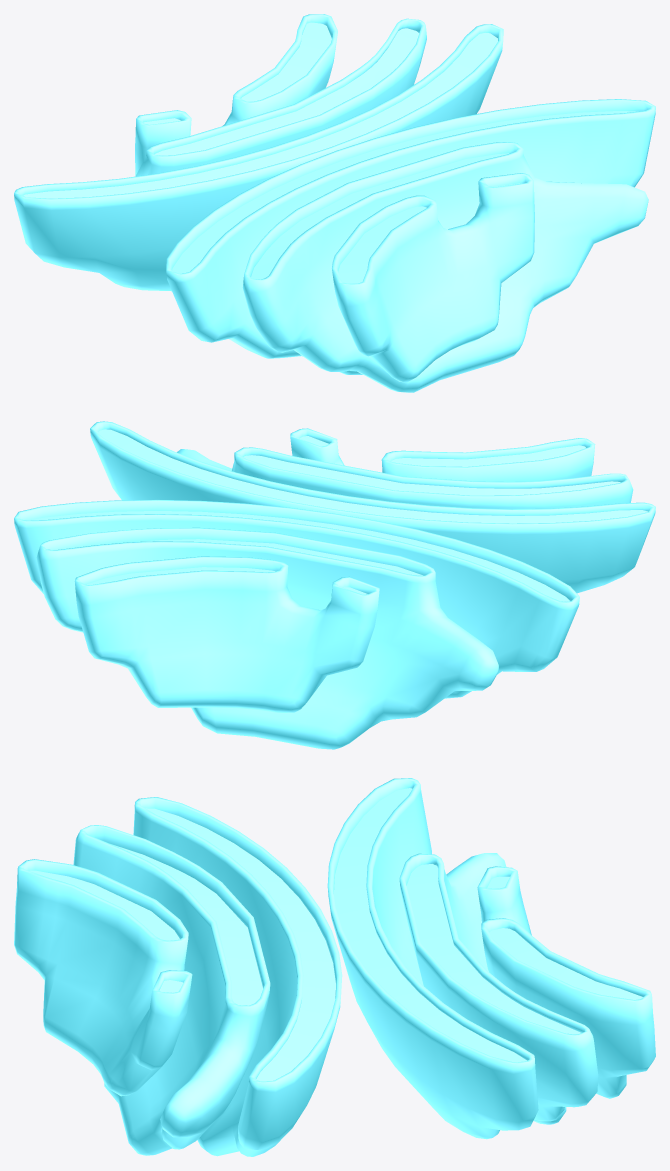
File: SM_Gol.fbx
The picture shows the model from 3 angles, top to bottom: view 1: azimuth 30°, elevation 25°; view 2: azimuth 150°, elevation 25°; view 3: azimuth 270°, elevation 25°; orthographic projection. The views are drawn at different scales.
Visible parts, largest first — view 1: GolgiApparatus_type00; view 2: GolgiApparatus_type00; view 3: GolgiApparatus_type00.
Part boxes in pixels (x1=…): GolgiApparatus_type00: x1=14, y1=14, x2=655, y2=392; GolgiApparatus_type00: x1=14, y1=421, x2=655, y2=749; GolgiApparatus_type00: x1=14, y1=778, x2=655, y2=1156.
Bounding box in the file's own units: 835 × 232 × 745.
